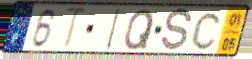6: (31, 7, 57, 49)
C: (189, 10, 223, 52)
I: (104, 8, 123, 51)
Q: (122, 8, 156, 52)
S: (159, 7, 194, 54)
T: (61, 6, 90, 51)
